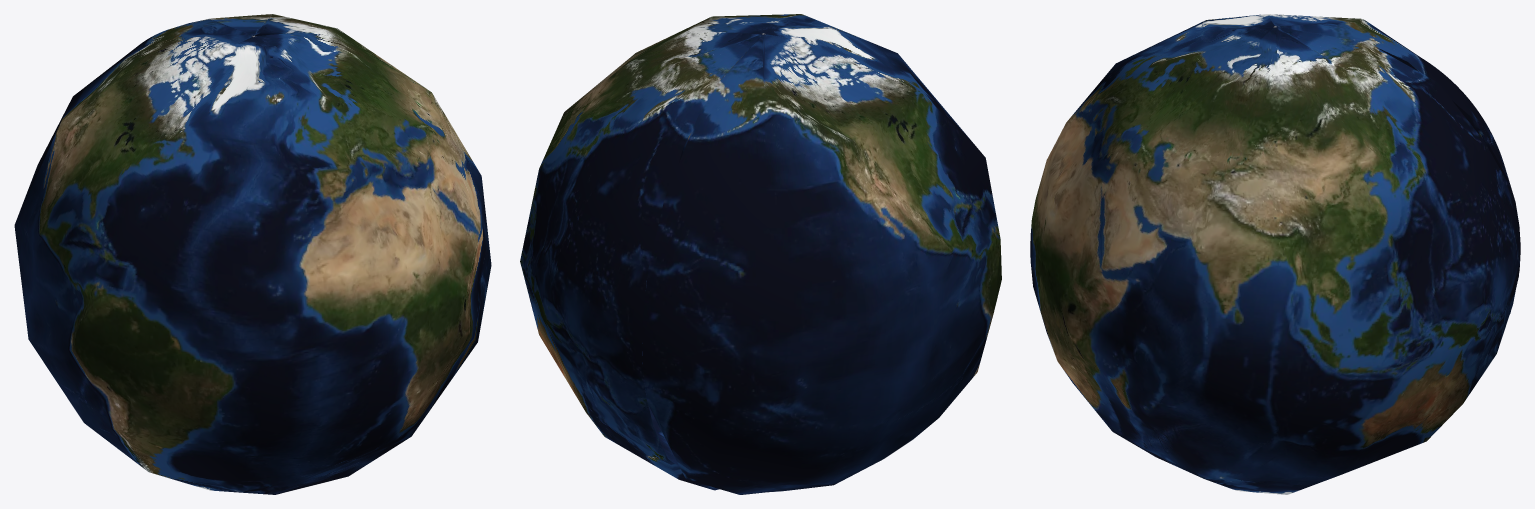
File: earth.glb
3 renders of one model, left to right at view 1: azimuth 30°, elevation 25°; view 2: azimuth 150°, elevation 25°; view 3: azimuth 270°, elevation 25°, orthographic.
Visible parts, largest first — view 1: Object_4; view 2: Object_4; view 3: Object_4.
Boxes of the visible parts, x1,y1,x2,y2 form: Object_4: (14, 14, 491, 494); Object_4: (520, 14, 1001, 494); Object_4: (1030, 14, 1520, 494).
Bounding box in the file's own units: 226 × 230 × 229.
1 material, 1 textured.
